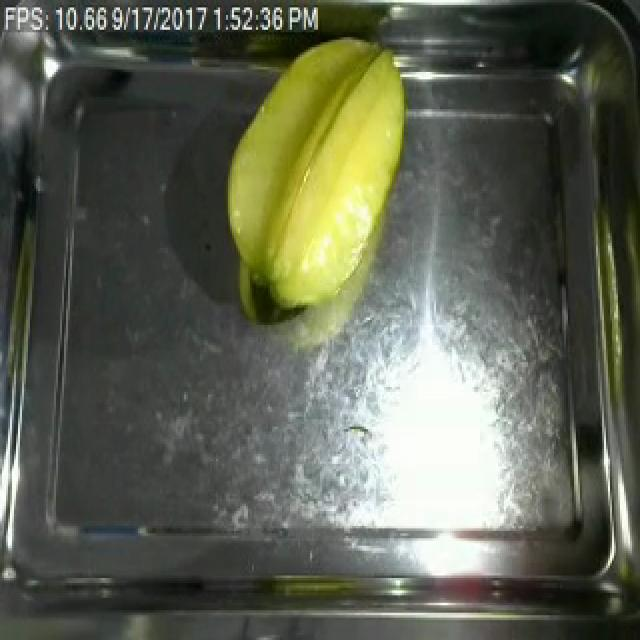fruit: (210, 22, 424, 328)
